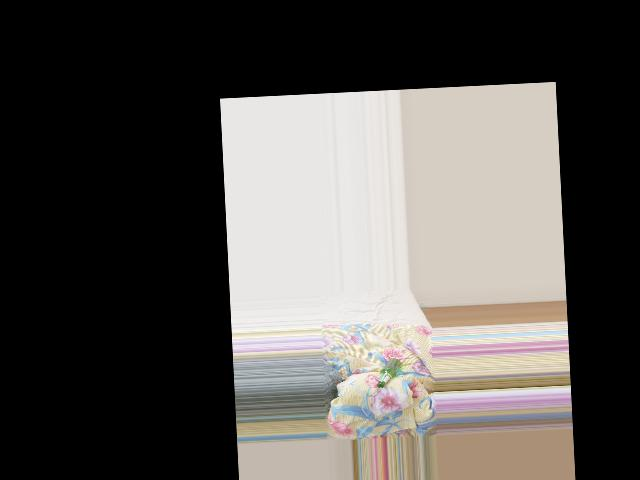beer: (376, 358, 402, 388)
